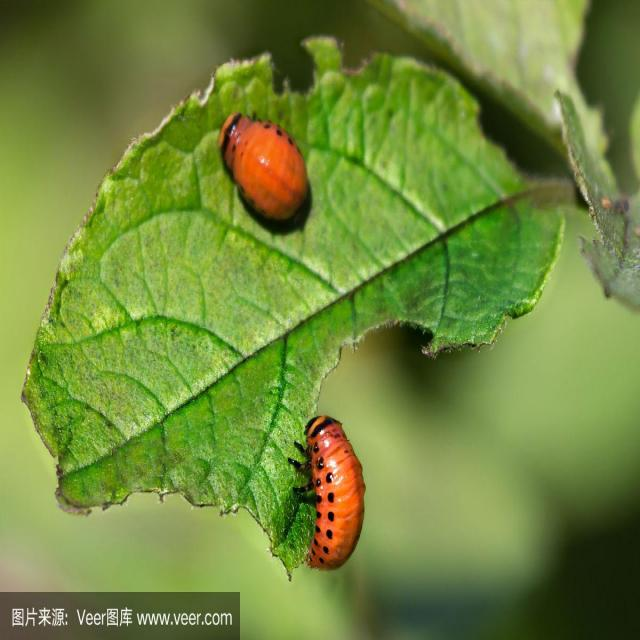ShuCaiHuaBanChong-Larva-: (195, 93, 340, 245), (293, 408, 363, 558)
